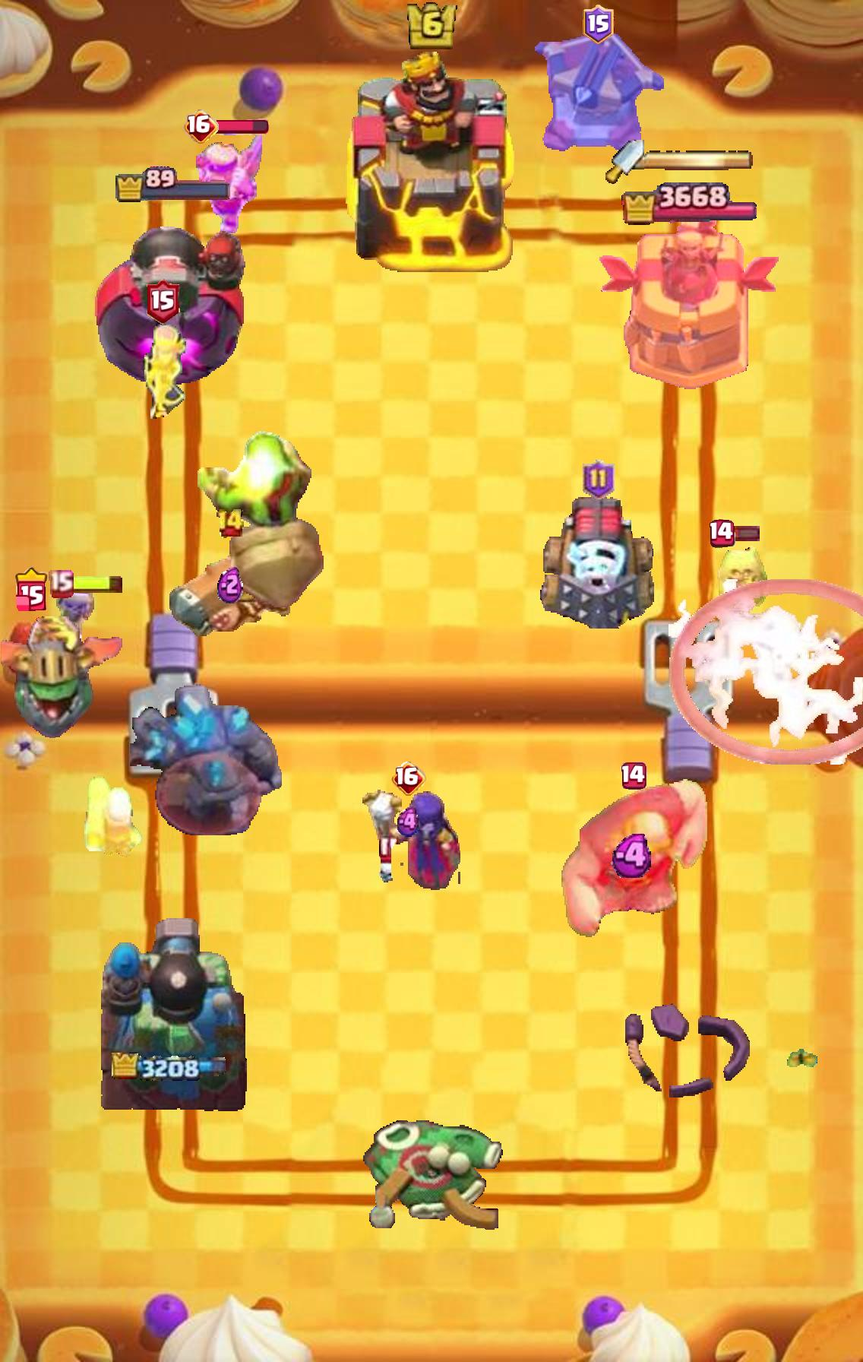elixir: (610, 834, 657, 878), (217, 564, 243, 603), (394, 807, 423, 838)
